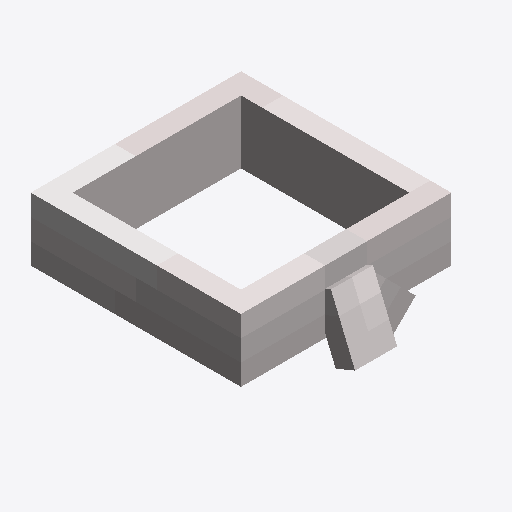
A Minecraft block model of 6 cuboids, rendered isometrically (azimuth 45°, elevation 35.3°) with the resource pack's own textures.
Parts seen in each view (by area): element 2, element 1, element 3, element 4, element 6, element 5.
Part boxes in pixels (bbox=[...]): element 2: bbox=[220, 181, 450, 386]; element 1: bbox=[31, 71, 261, 276]; element 3: bbox=[52, 193, 240, 373]; element 4: bbox=[241, 84, 429, 228]; element 6: bbox=[325, 265, 396, 370]; element 5: bbox=[375, 272, 415, 333].
Size of the model in its own units: 10 by 4.51 by 11.42.